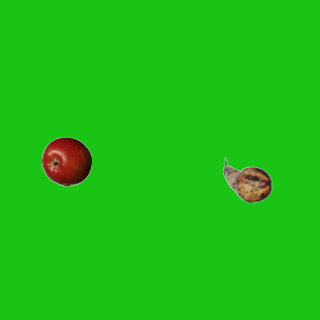Apple Braeburn: (41, 136, 91, 186)
Pear Abate: (222, 155, 272, 205)
